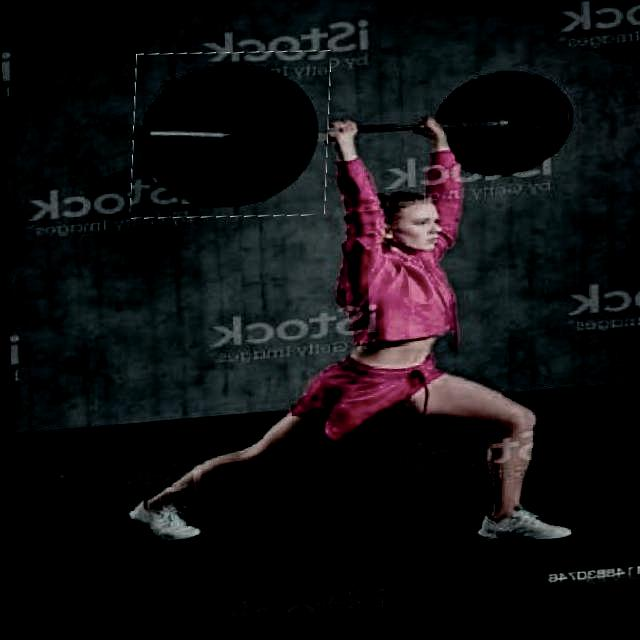barbell: (128, 48, 332, 231)
